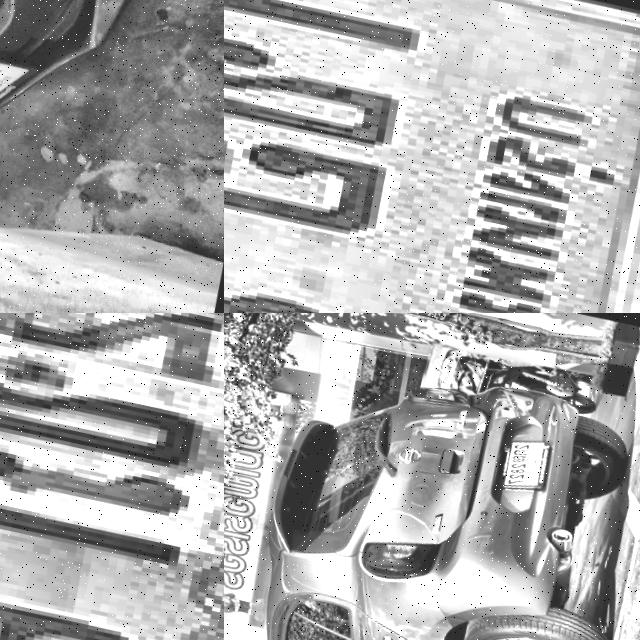license-plate: (224, 0, 640, 313), (0, 313, 224, 640), (0, 34, 42, 146), (490, 430, 551, 502)
